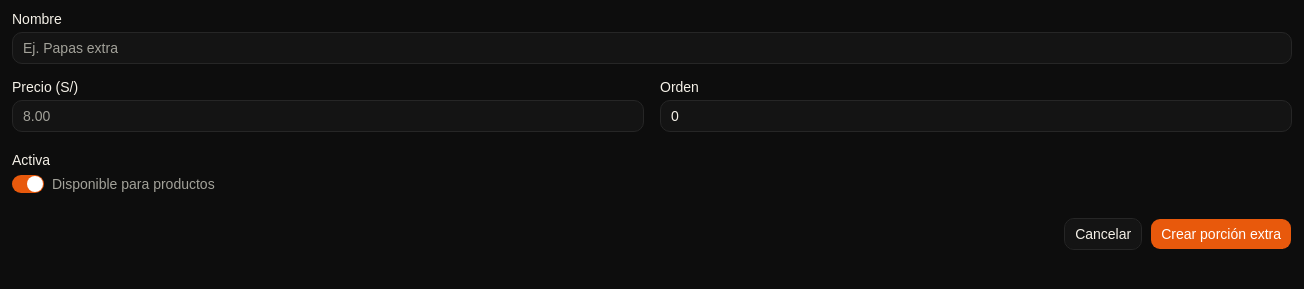
Test: ExtraPortionForm › rechaza más de 2 decimales
The width and height of the screenshot is (1304, 289).
Type "Palta extra" into the field labelled "Nombre". click: {"x": 652, "y": 48}
box: [12, 32, 1292, 64]
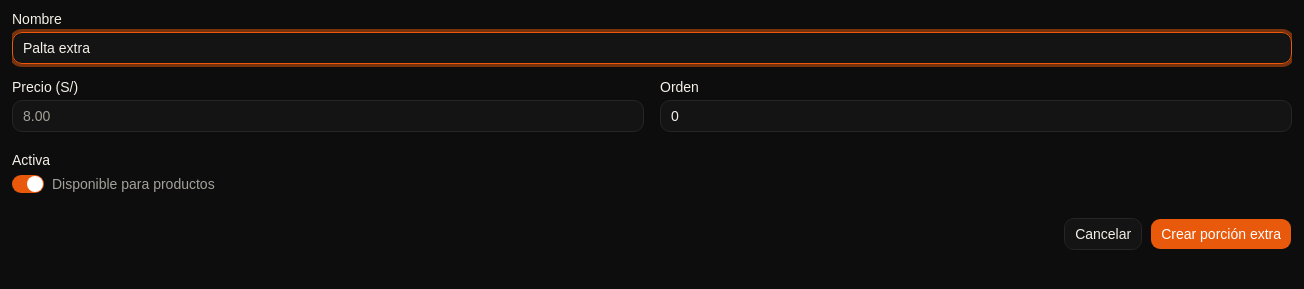
Type "4.999" into the number field labelled "Precio (S/)". click: {"x": 328, "y": 116}
box: [12, 100, 644, 132]
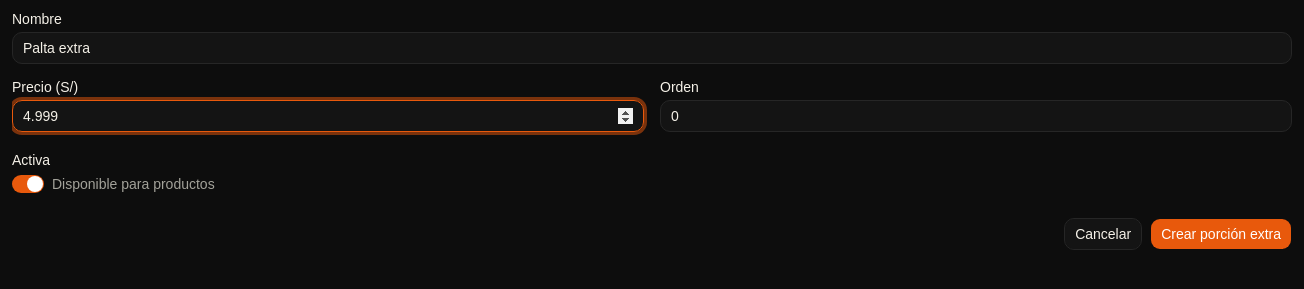
Click the button "Crear porción extra". click: {"x": 1221, "y": 234}
box: [1150, 218, 1292, 250]
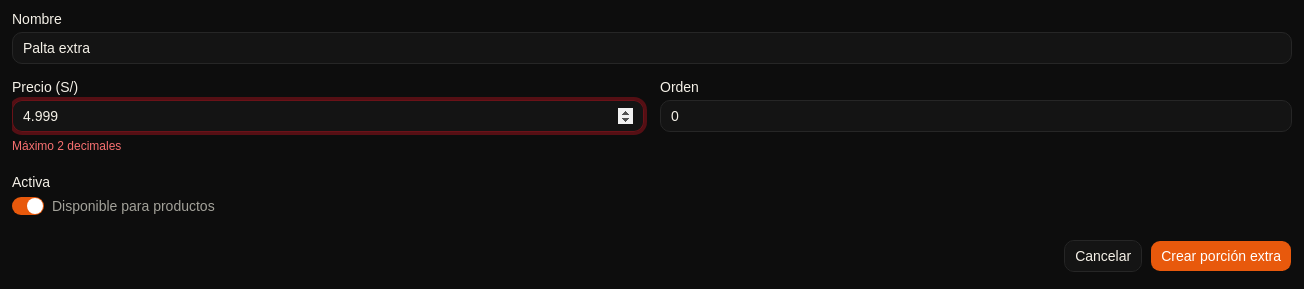
Check: the text "Máximo 2 decimales" is shown, box [12, 139, 121, 153]
